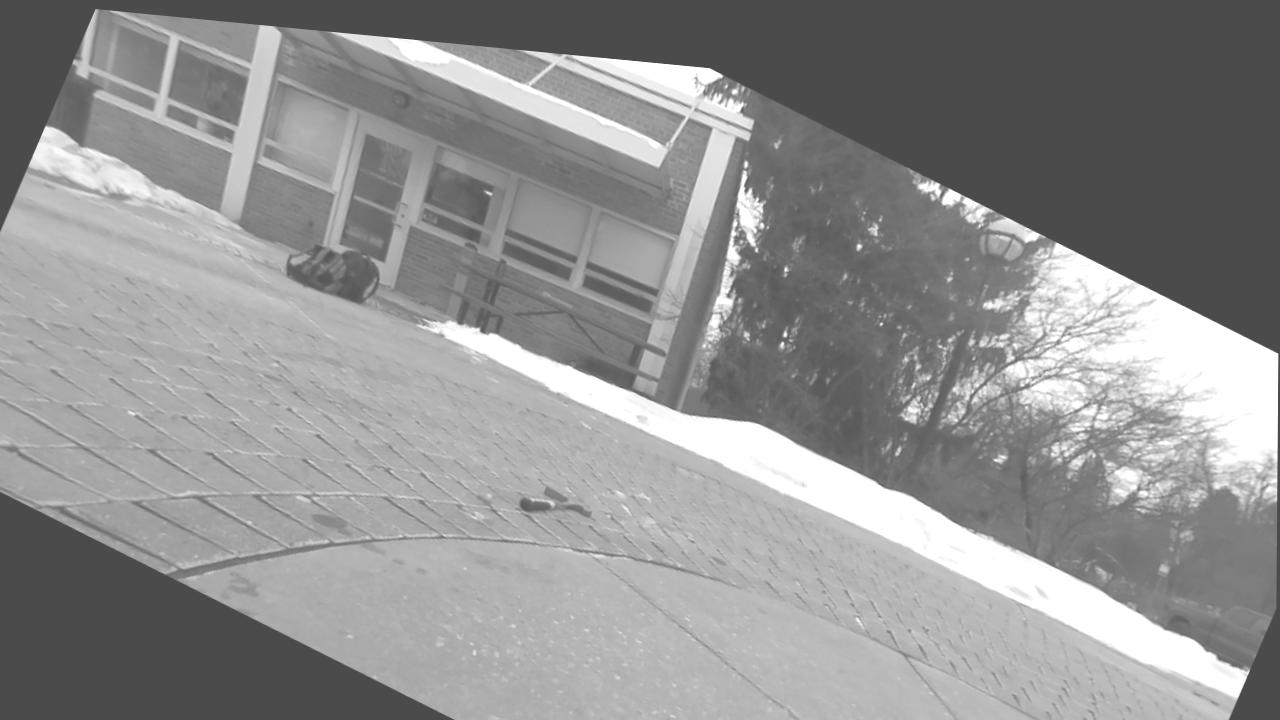pick: (518, 486, 591, 515)
